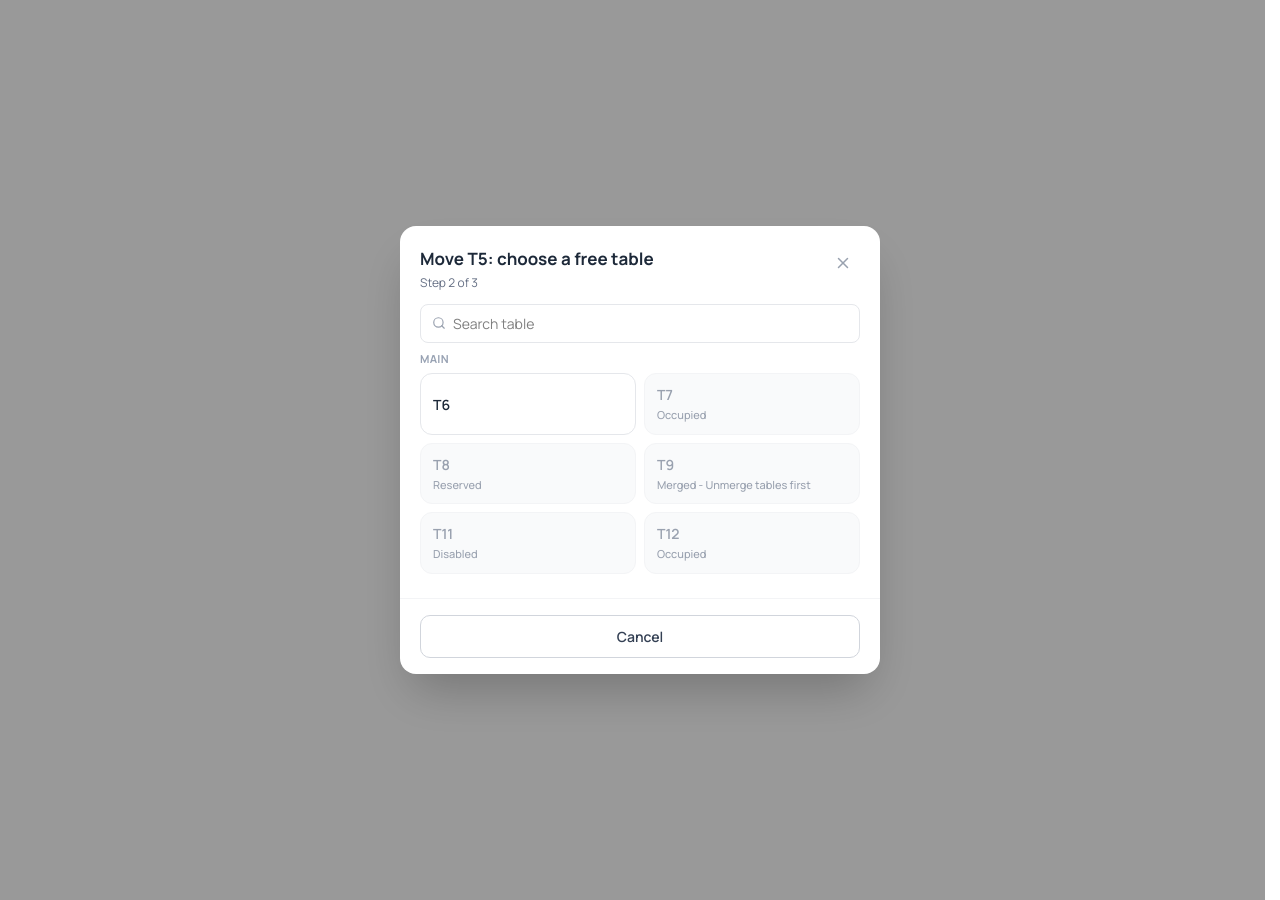
Scenario: MoveTableModal › double tap sends one move
Later steps or results of the test are not shown.
Click the button "T6" at (528, 404), box 420,373 -> 636,435
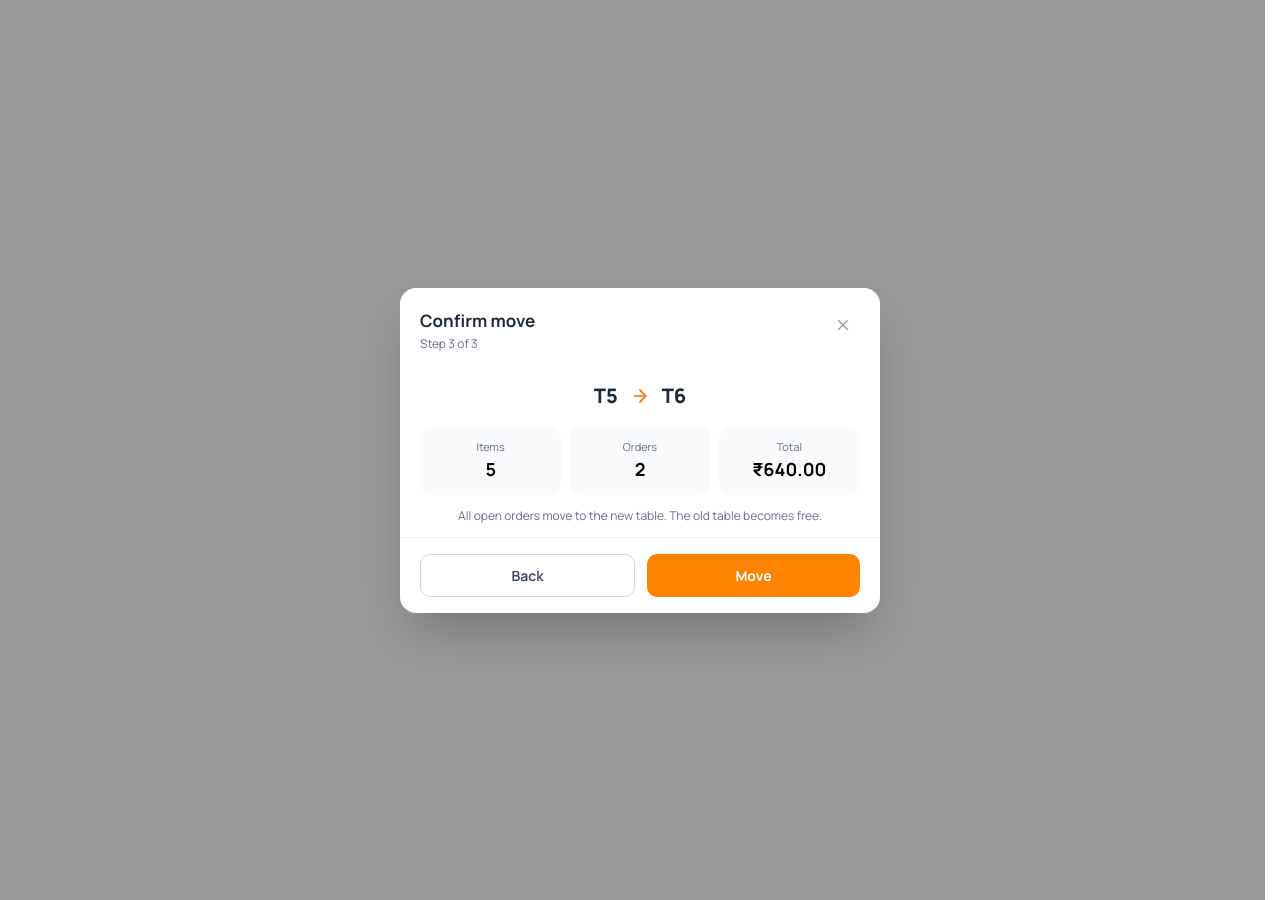
Result: the button "Move" is enabled at 647,554 -> 860,596
